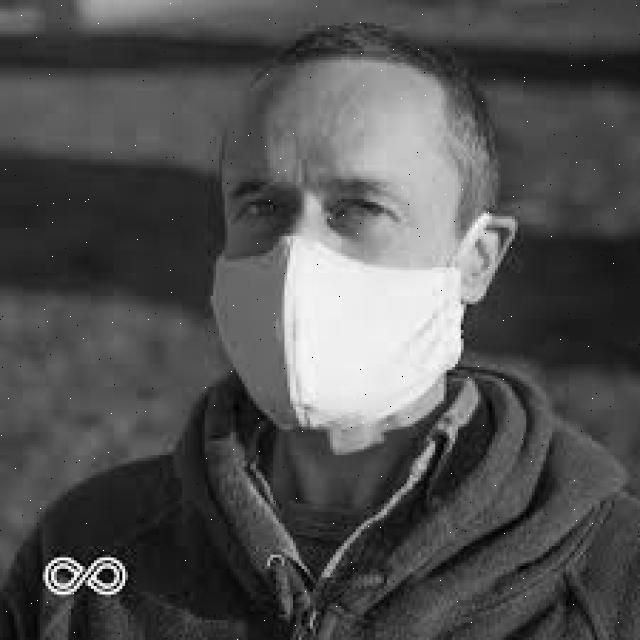fake: (182, 228, 528, 442)
real: (222, 63, 469, 444)
